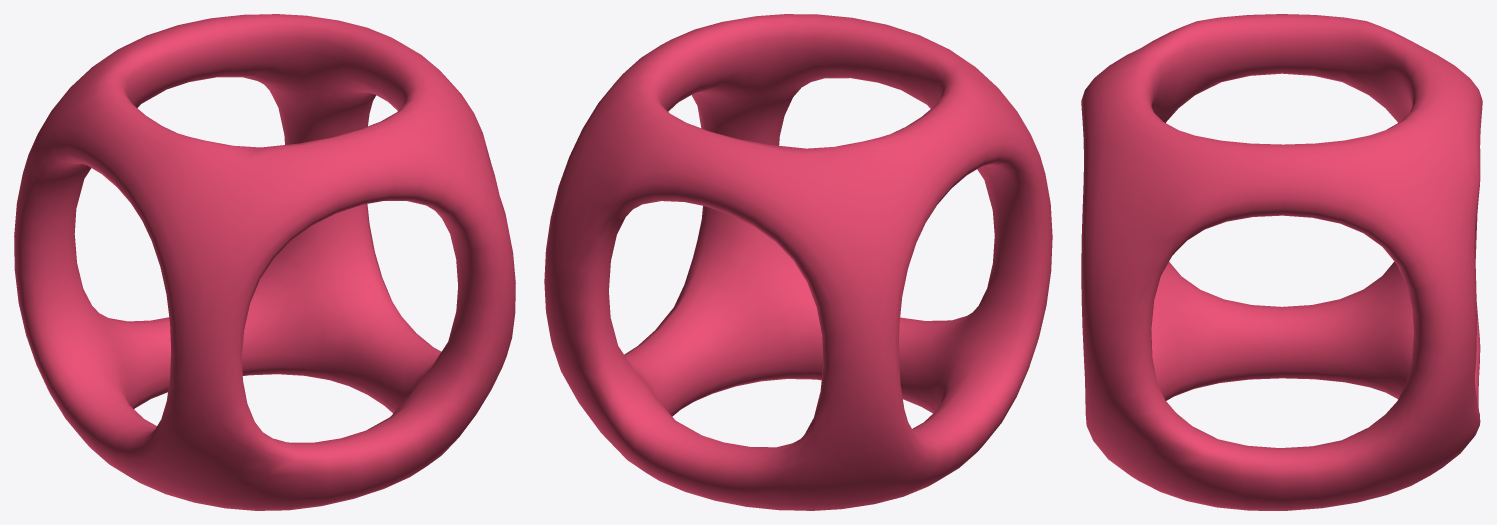
File: Frame.fbx
The picture shows the model from 3 angles, left to right: view 1: azimuth 30°, elevation 25°; view 2: azimuth 150°, elevation 25°; view 3: azimuth 270°, elevation 25°; orthographic projection.
Visible parts, largest first — view 1: Cube; view 2: Cube; view 3: Cube.
Boxes of the visible parts, x1=… form: Cube: x1=14, y1=14, x2=515, y2=510; Cube: x1=544, y1=14, x2=1052, y2=510; Cube: x1=1081, y1=14, x2=1482, y2=510.
Size of the model in its own units: 40 by 40 by 40.
